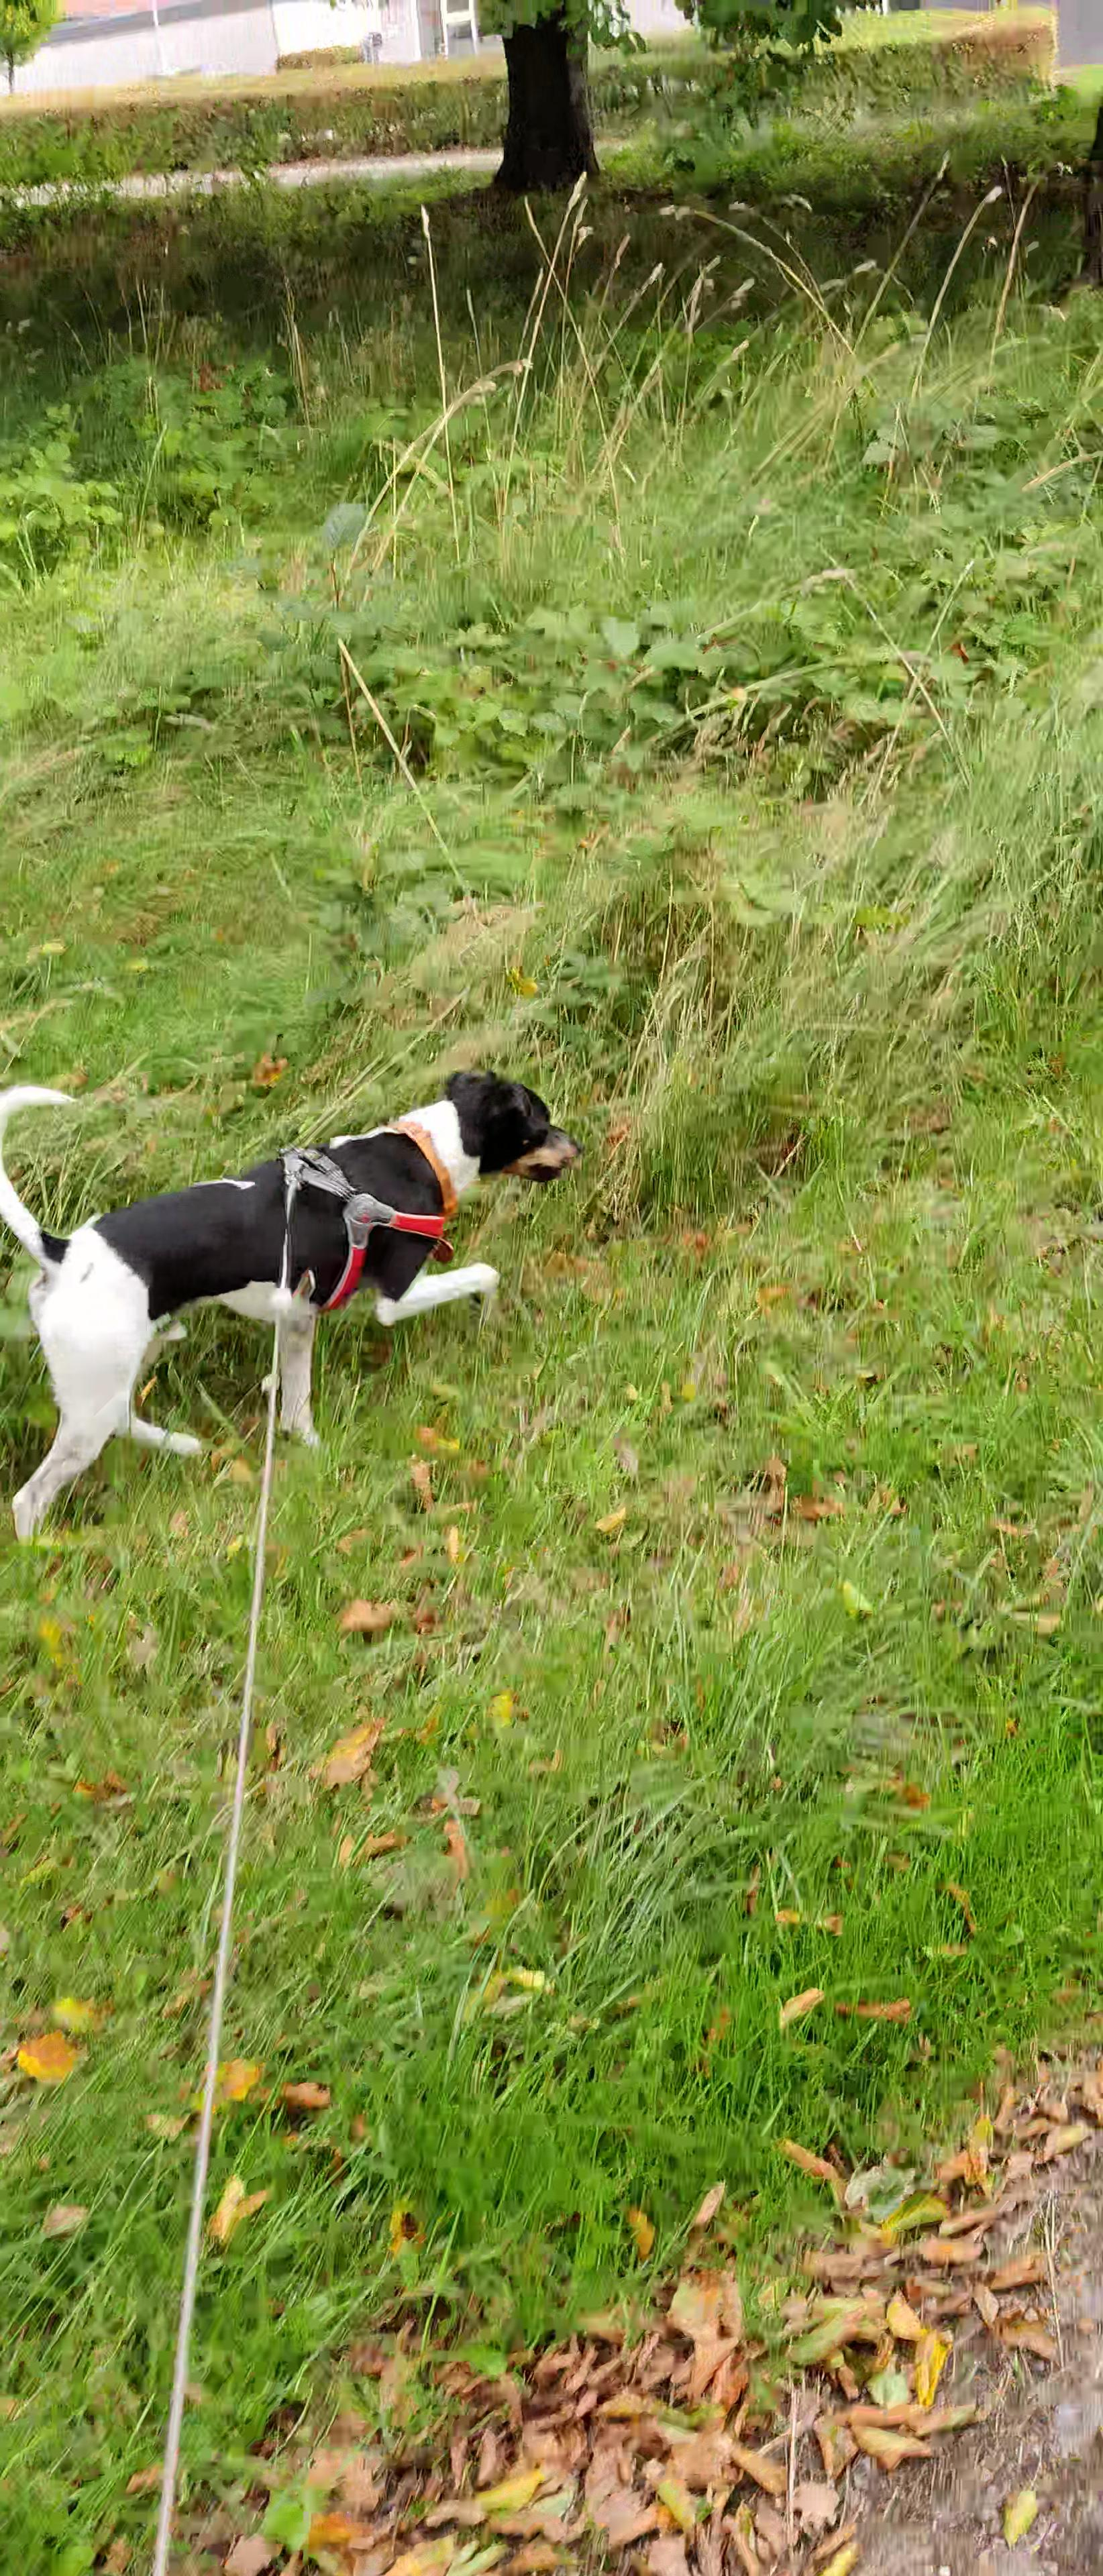Dog: (0, 1063, 587, 1543)
